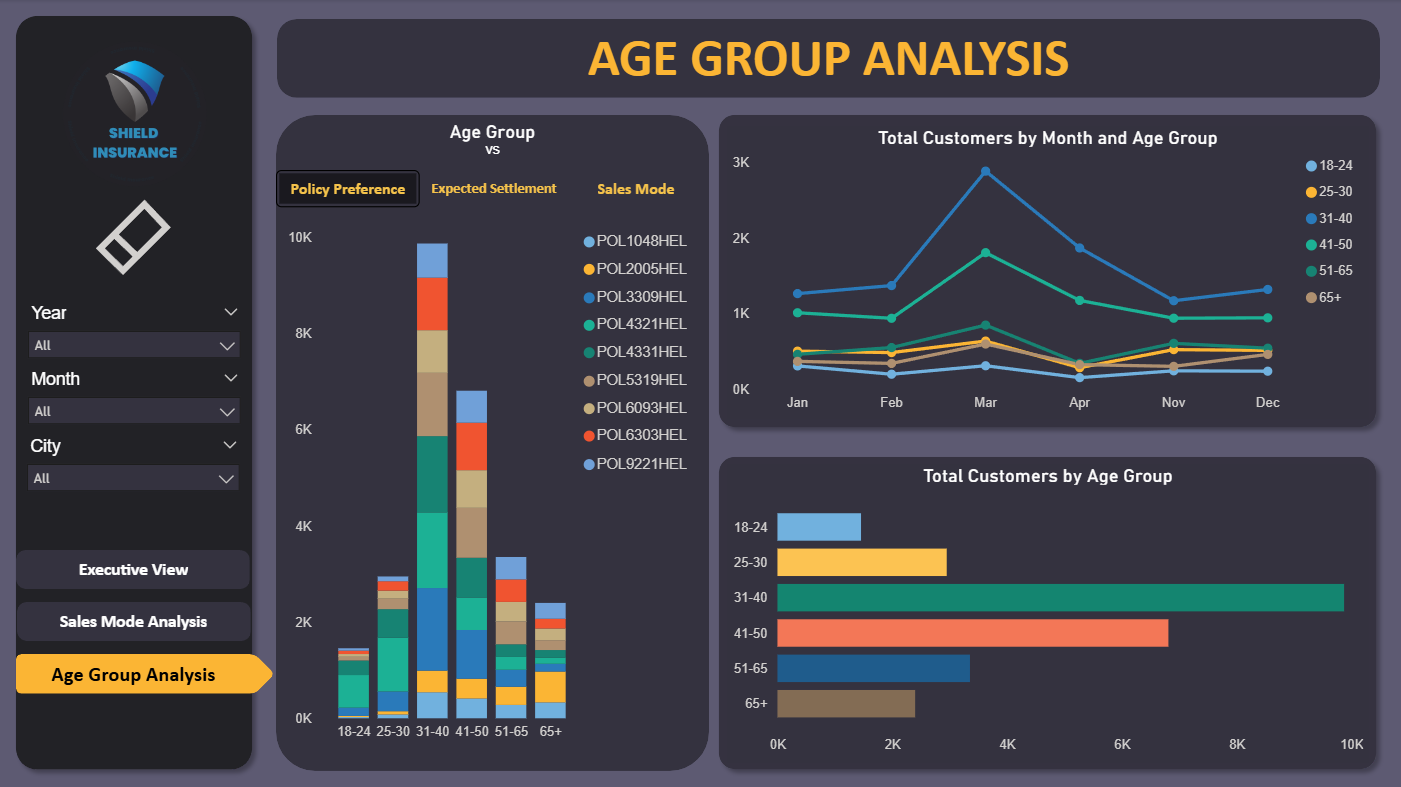

What the dashboard file says about the page in this screenshot:
{"tool":"powerbi","page":{"name":"age group analysis","canvas":[1280,720],"ordinal":2},"visuals":[{"type":"shape","box":[252.5,105.8,394.8,598.1],"z":0},{"type":"shape","box":[253.2,18.2,1005.6,71.9],"z":1000},{"type":"textbox","box":[253.2,18.2,1005.6,71.9],"z":2000},{"type":"shape","box":[6.8,6.8,233.4,705.2],"z":3000},{"type":"image","box":[16.5,33.1,215,144],"z":4000},{"type":"shape","box":[647.3,96.6,617.2,302.7],"z":8000},{"type":"columnChart","fields":{"Category":["dim_customer.age_group"],"Series":["fact_premiums.policy_id"],"Y":["Key Measures.Policy Preference Count"]},"box":[258,203.3,383.8,480.5],"z":11000},{"type":"shape","box":[647.3,408.4,617.2,302.7],"z":14000},{"type":"lineChart","title":"Total Customers by Month and Age Group","fields":{"Category":["dim_date.month"],"Y":["Key Measures.Total Customers"],"Series":["dim_customer.age_group"]},"box":[663.7,115.8,585.3,268],"z":15000},{"type":"barChart","title":"Total Customers by Age Group","fields":{"Y":["Key Measures.Total Customers"],"Category":["dim_customer.age_group"]},"box":[663.7,423.9,585.3,271.7],"z":16000},{"type":"textbox","box":[299.9,105.8,299.9,50.1],"z":17000},{"type":"actionButton","title":"Revenue","box":[252.5,155.9,131.3,33.7],"z":18000},{"type":"actionButton","title":"Revenue","box":[385.6,155.9,131.3,32.8],"z":22000},{"type":"actionButton","title":"Revenue","box":[515.1,156.8,131.3,32.8],"z":23000},{"type":"slicer","fields":{"Values":["dim_date.year"]},"box":[16.4,272.6,214.2,72.9],"z":24000},{"type":"slicer","fields":{"Values":["dim_date.month"]},"box":[16.4,332.8,214.2,72],"z":25000},{"type":"actionButton","box":[15.5,178.7,214.2,78.4],"z":26000},{"type":"slicer","fields":{"Values":["dim_customer.city"]},"box":[15.5,393.8,214.2,72],"z":27000},{"type":"shape","box":[15.5,597.2,236.1,36.5],"z":28000},{"type":"shape","box":[16.4,549.7,213.3,35.6],"z":29000},{"type":"shape","box":[15.5,502.3,213.3,35.6],"z":30000},{"type":"actionButton","box":[16.4,501.4,212.4,36.5],"z":30001},{"type":"actionButton","box":[16.4,548.8,212.4,36.5],"z":30002},{"type":"actionButton","box":[16.4,597.2,212.4,36.5],"z":30003}]}

Visuals, with their boxes in screenshot pixels (x1, y1, x2, y2), scaled from the page's 1280x720 canvas onto the 1401x787 screenshot:
shape: {"left": 276, "top": 116, "right": 708, "bottom": 769}
shape: {"left": 277, "top": 20, "right": 1378, "bottom": 98}
textbox: {"left": 277, "top": 20, "right": 1378, "bottom": 98}
shape: {"left": 7, "top": 7, "right": 263, "bottom": 778}
image: {"left": 18, "top": 36, "right": 253, "bottom": 194}
shape: {"left": 708, "top": 106, "right": 1384, "bottom": 436}
columnChart - dim_customer.age_group x fact_premiums.policy_id: {"left": 282, "top": 222, "right": 702, "bottom": 747}
shape: {"left": 708, "top": 446, "right": 1384, "bottom": 777}
"Total Customers by Month and Age Group" lineChart: {"left": 726, "top": 127, "right": 1367, "bottom": 420}
"Total Customers by Age Group" barChart: {"left": 726, "top": 463, "right": 1367, "bottom": 760}
textbox: {"left": 328, "top": 116, "right": 656, "bottom": 170}
"Revenue" actionButton: {"left": 276, "top": 170, "right": 420, "bottom": 207}
"Revenue" actionButton: {"left": 422, "top": 170, "right": 566, "bottom": 206}
"Revenue" actionButton: {"left": 564, "top": 171, "right": 708, "bottom": 207}
slicer - dim_date.year: {"left": 18, "top": 298, "right": 252, "bottom": 378}
slicer - dim_date.month: {"left": 18, "top": 364, "right": 252, "bottom": 442}
actionButton: {"left": 17, "top": 195, "right": 251, "bottom": 281}
slicer - dim_customer.city: {"left": 17, "top": 430, "right": 251, "bottom": 509}
shape: {"left": 17, "top": 653, "right": 275, "bottom": 693}
shape: {"left": 18, "top": 601, "right": 251, "bottom": 640}
shape: {"left": 17, "top": 549, "right": 250, "bottom": 588}
actionButton: {"left": 18, "top": 548, "right": 250, "bottom": 588}
actionButton: {"left": 18, "top": 600, "right": 250, "bottom": 640}
actionButton: {"left": 18, "top": 653, "right": 250, "bottom": 693}
